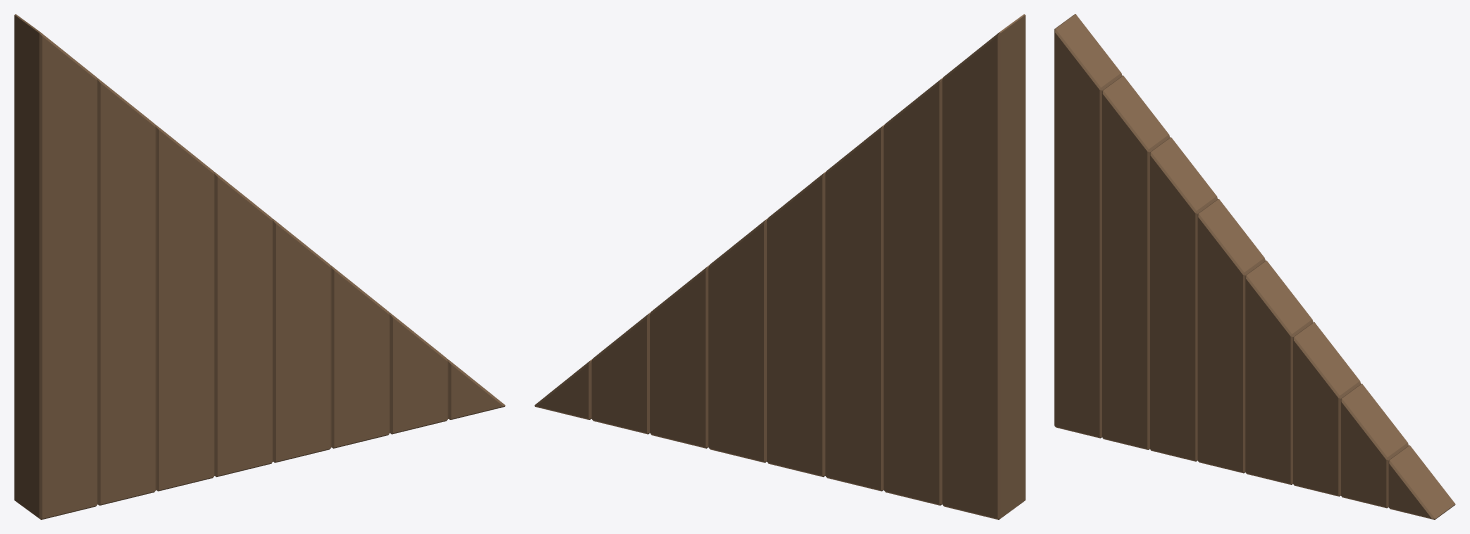
File: SM_Wall_Gable_45_Half.fbx
The picture shows the model from 3 angles, left to right: view 1: azimuth 30°, elevation 25°; view 2: azimuth 150°, elevation 25°; view 3: azimuth 330°, elevation 25°; orthographic projection. The views are drawn at different scales.
Visible parts, largest first — view 1: SM_Wall_Gable_45_Half; view 2: SM_Wall_Gable_45_Half; view 3: SM_Wall_Gable_45_Half.
Boxes of the visible parts, box(x1,y1,x2,y2) form: SM_Wall_Gable_45_Half: box(14, 14, 505, 519); SM_Wall_Gable_45_Half: box(534, 14, 1025, 519); SM_Wall_Gable_45_Half: box(1054, 14, 1455, 519).
Size of the model in its own units: 1.99 by 1.99 by 0.2.
